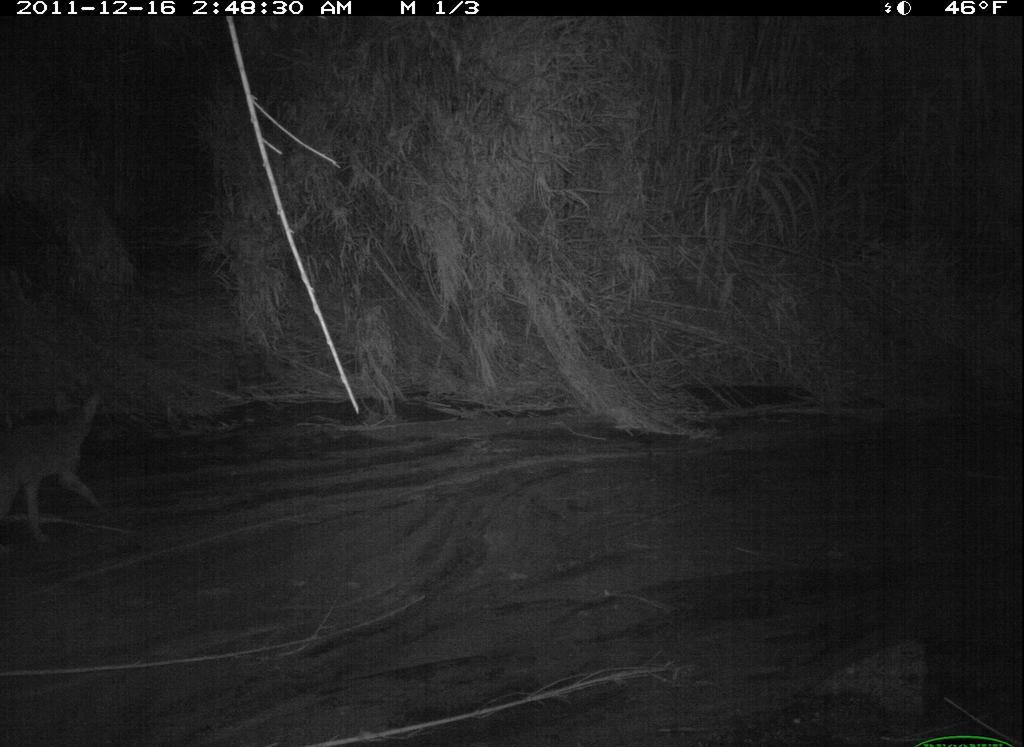coyote: (1, 368, 129, 563)
